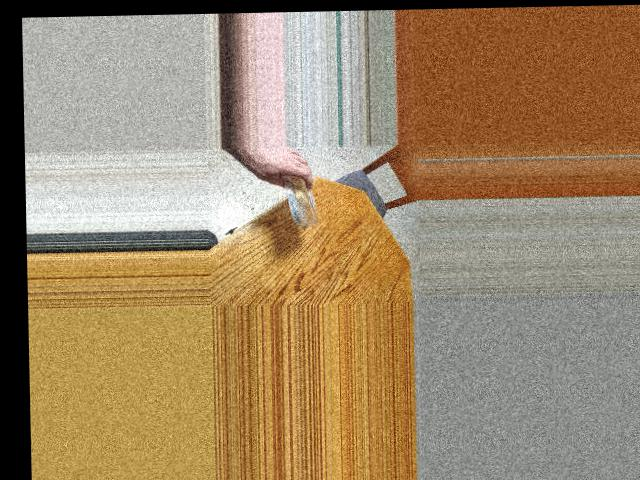cheese: (274, 175, 319, 223)
